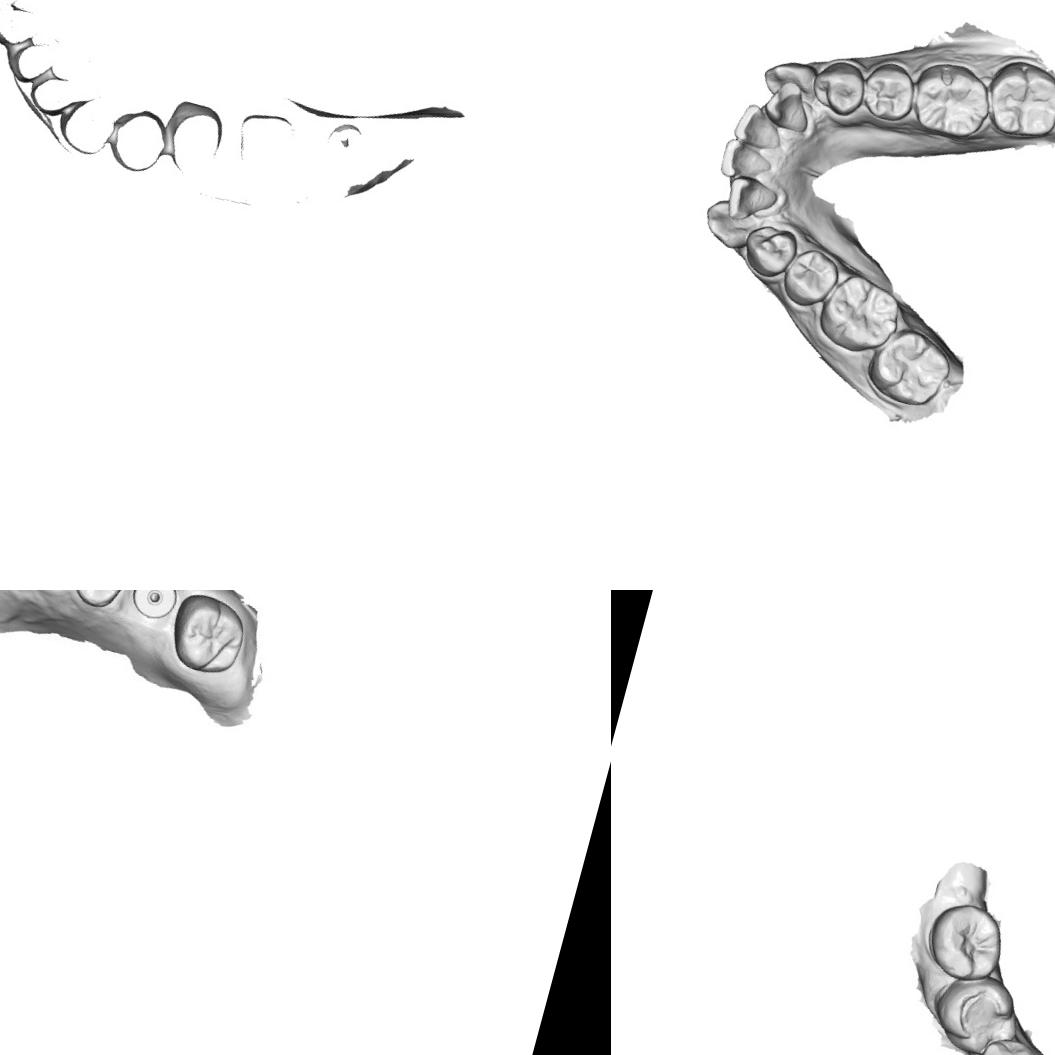canine: (697, 195, 765, 254), (757, 52, 824, 106)
implant: (122, 590, 183, 628)
incisor: (758, 74, 819, 136), (719, 170, 781, 230), (714, 133, 776, 188), (729, 100, 790, 154)
molar: (858, 317, 959, 414), (810, 265, 909, 362), (160, 590, 257, 683), (924, 964, 1022, 1055), (904, 52, 998, 146), (917, 894, 1011, 988), (978, 53, 1055, 148)
premolar: (776, 241, 846, 315), (855, 55, 922, 127), (804, 53, 871, 121), (736, 218, 802, 284), (968, 1029, 1042, 1055), (72, 590, 135, 611)
